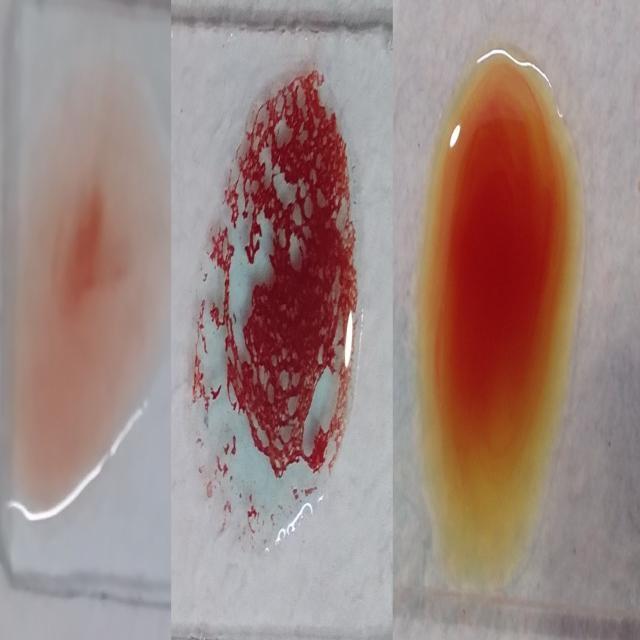A: (190, 68, 362, 542)
